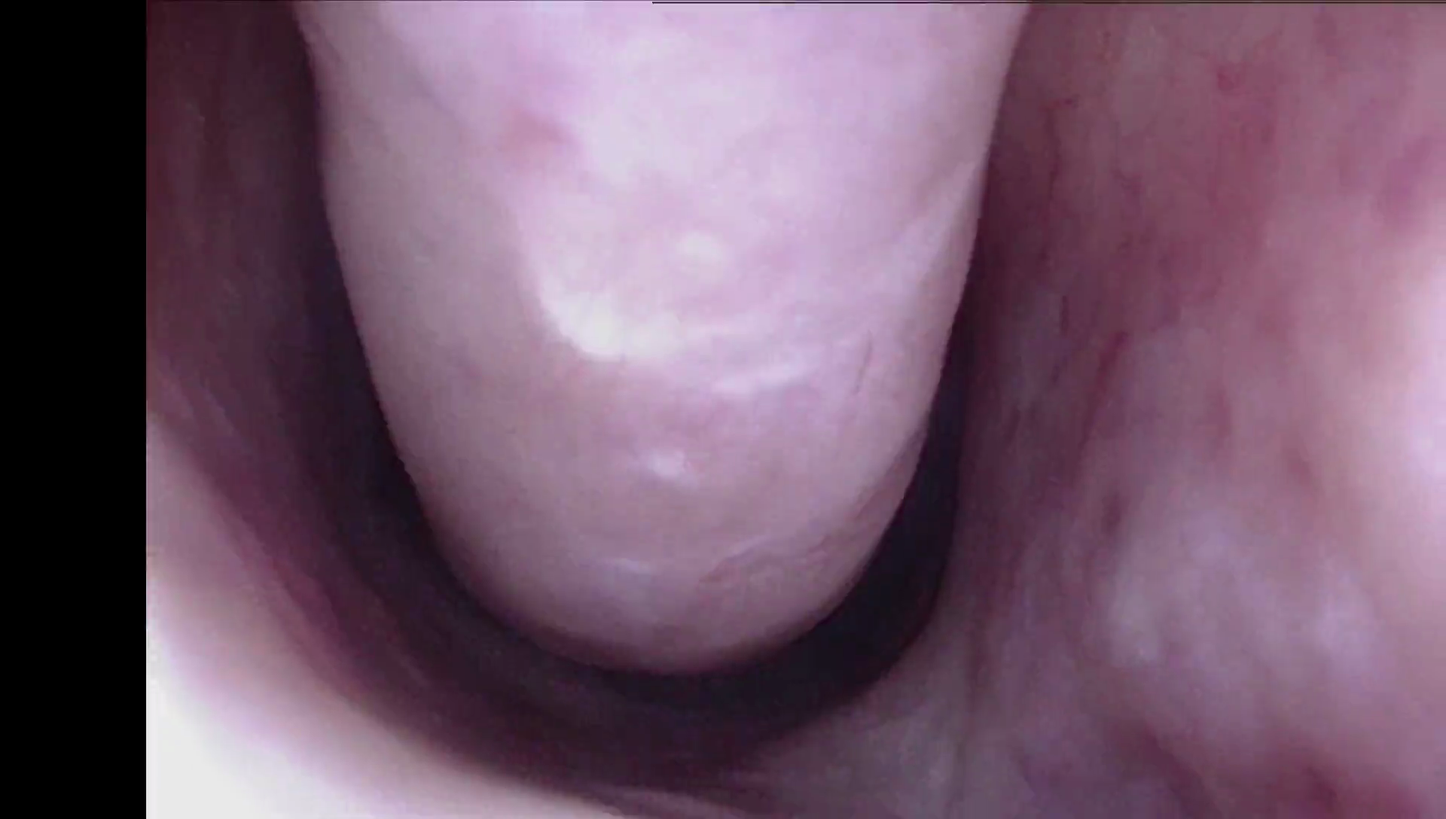close_wall: (377, 0, 940, 386), (1238, 41, 1446, 698), (155, 586, 602, 819)
next: (627, 290, 1043, 724), (392, 549, 880, 750), (288, 165, 450, 619)
